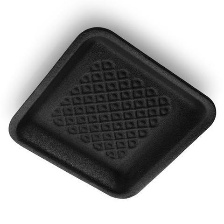foam_box: (3, 23, 220, 204)
